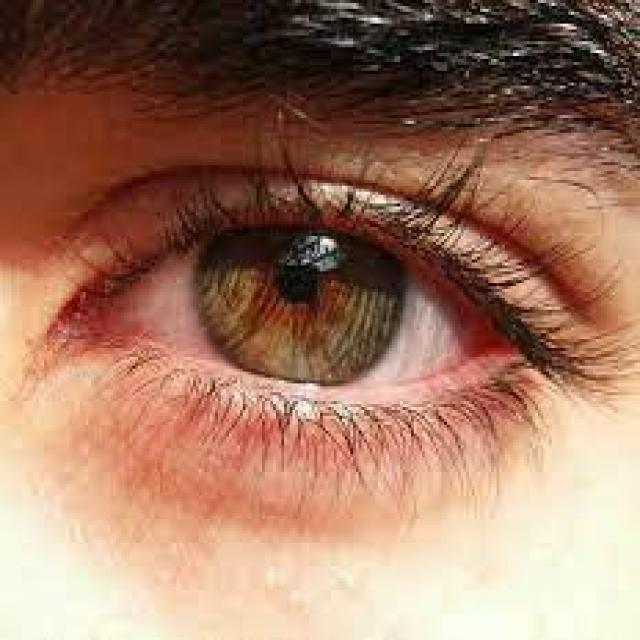Normal: (16, 151, 634, 538)
